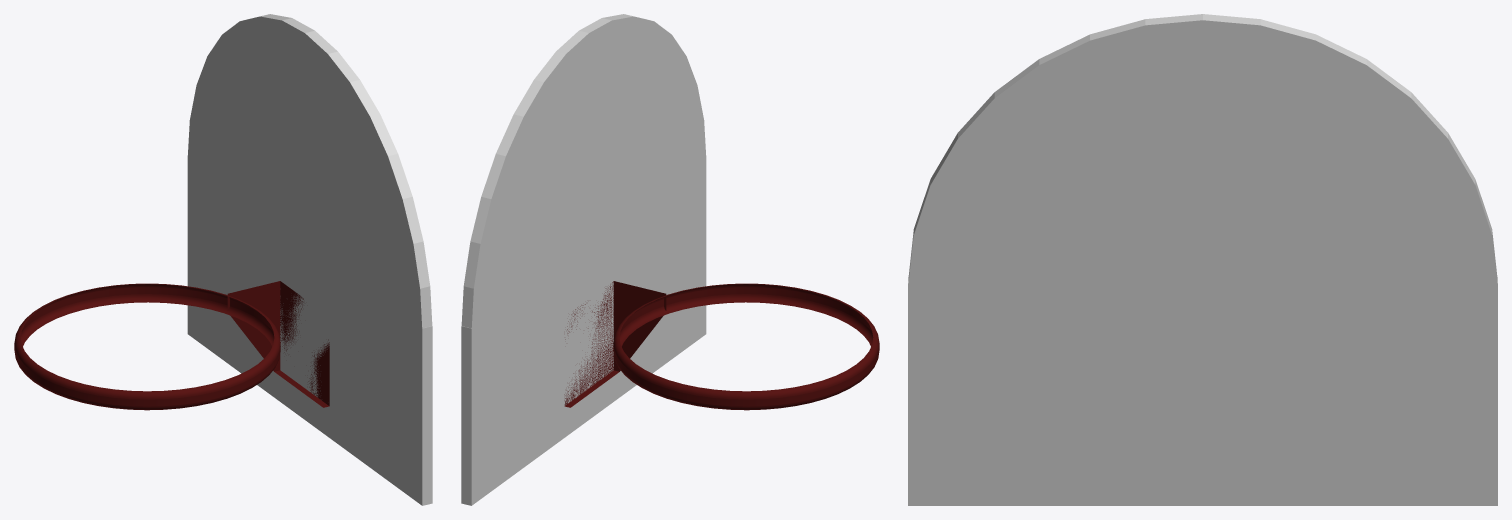
File: brokenbasketnet1.fbx
3 renders of one model, left to right at view 1: azimuth 30°, elevation 25°; view 2: azimuth 150°, elevation 25°; view 3: azimuth 270°, elevation 25°, orthographic. The views are drawn at different scales.
Parts seen in each view (by area): view 1: Circle, Plane, BezierCircle, Plane.001; view 2: Circle, Plane, BezierCircle, Plane.001; view 3: Circle, Plane.
Boxes of the visible parts, left/top/right/bottom form: Circle: left=187, top=14, right=432, bottom=328; Plane: left=187, top=157, right=432, bottom=505; BezierCircle: left=14, top=283, right=280, bottom=410; Plane.001: left=227, top=281, right=329, bottom=407; Circle: left=461, top=14, right=706, bottom=328; Plane: left=461, top=157, right=706, bottom=505; BezierCircle: left=613, top=283, right=879, bottom=410; Plane.001: left=564, top=281, right=666, bottom=407; Circle: left=908, top=14, right=1497, bottom=460; Plane: left=908, top=277, right=1497, bottom=505.
Bounding box in the file's own units: 139 × 182 × 200.
